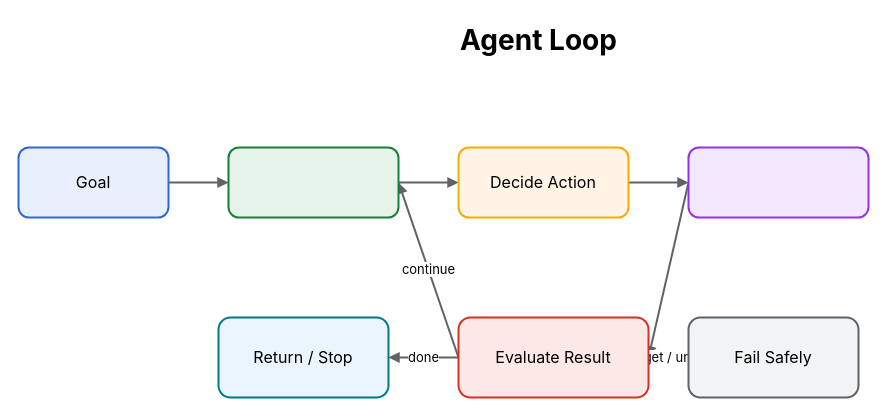
The diagram is 886 pixels wide and 415 high, and some of its shapes have lost their labels. The shapes that lost their labels are listed below. From the top down, each one's centre as x and y in pixels, then its label:
At (x=313, y=182): "Observe State".
At (x=778, y=182): "Act Through Tool".
